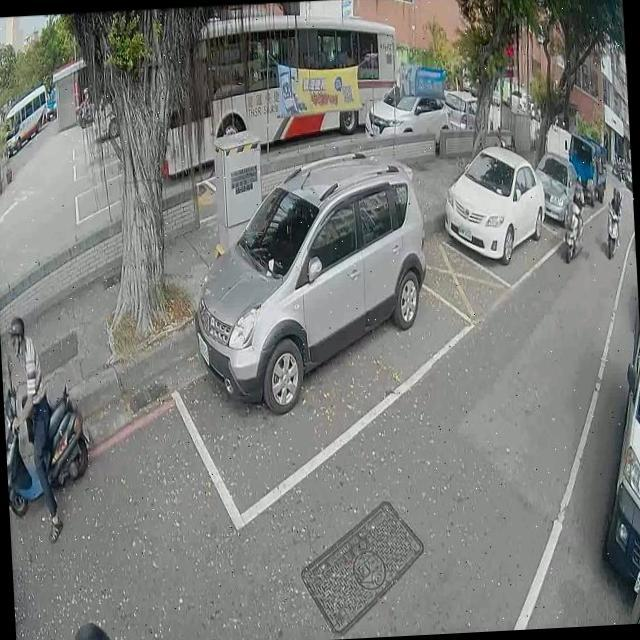person: (0, 316, 64, 538), (70, 616, 120, 640), (568, 173, 586, 234), (605, 185, 623, 246), (78, 88, 89, 118)
